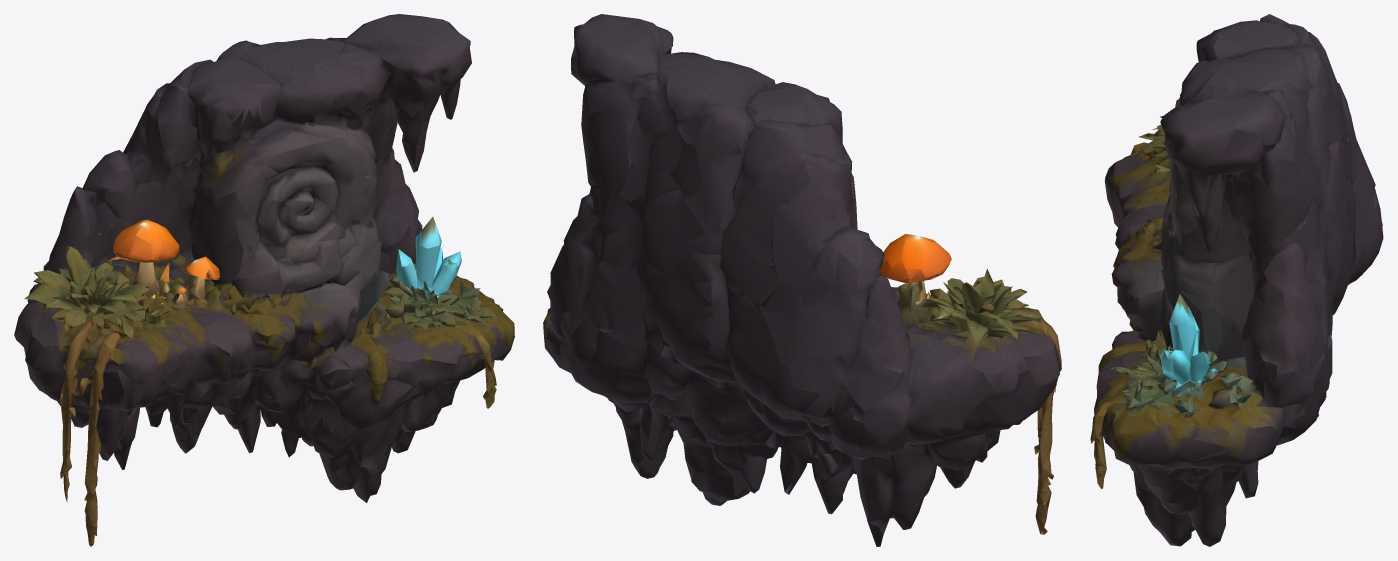
File: cave-grotto.glb
3 views of the same model, side by side, from view 1: azimuth 30°, elevation 25°; view 2: azimuth 150°, elevation 25°; view 3: azimuth 270°, elevation 25° (orthographic). The views are drawn at different scales.
Size of the model in its own units: 1.9 by 1.74 by 0.9702.
Materials: 1 (1 with a texture image).
